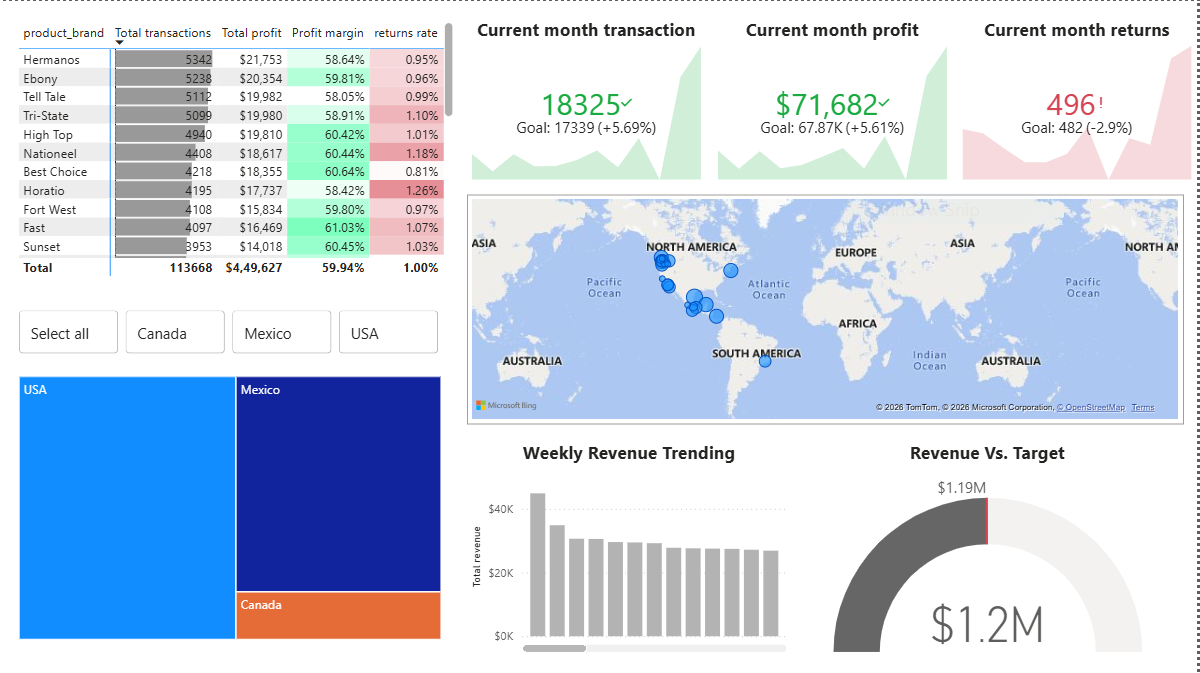

The page's visual inventory and layout, read from the dashboard file:
{"tool":"powerbi","page":{"name":"Page 1","canvas":[1280,720],"ordinal":0},"visuals":[{"type":"pivotTable","fields":{"Rows":["Products.product_brand"],"Values":["Dax measures.Total transactions","Dax measures.Total profit","Dax measures.Profit margin","Dax measures.returns rate"]},"box":[15.9,17.5,474,281.5],"z":0},{"type":"kpi","title":"Current month transaction","fields":{"Goal":["Dax measures.Last month transactions"],"Indicator":["Dax measures.Total transactions"],"TrendLine":["Calendar.Start of Month"]},"box":[500.3,18.2,255.2,178.2],"z":1000},{"type":"kpi","title":"Current month returns","fields":{"Goal":["Dax measures.Last month returns"],"Indicator":["Dax measures.Total returns"],"TrendLine":["Calendar.Start of Month"]},"box":[1024.8,18.2,255.2,178.2],"z":2000},{"type":"kpi","title":"Current month profit","fields":{"Goal":["Dax measures.Last month profit"],"Indicator":["Dax measures.Total profit"],"TrendLine":["Calendar.Start of Month"]},"box":[762.5,18.2,255.2,178.2],"z":3000},{"type":"map","fields":{"Category":["Stores.city"],"Size":["Dax measures.Total transactions"]},"box":[501,206.8,765.1,245],"z":4000},{"type":"advancedSlicerVisual","fields":{"Values":["Stores.country"]},"box":[16.2,326.1,461.8,56.7],"z":5000},{"type":"treemap","fields":{"Group":["Stores.country","Stores.state","Stores.city"],"Values":["Dax measures.Total transactions"]},"box":[15.9,396.1,461.3,291.1],"z":6000},{"type":"clusteredColumnChart","title":"Weekly Revenue Trending","fields":{"Category":["Calendar.Start of Week"],"Y":["Dax measures.Total revenue"]},"box":[500.3,469.9,346.3,230.9],"z":7000},{"type":"gauge","title":"Revenue Vs. Target","fields":{"TargetValue":["Dax measures.Revenue target"],"Y":["Dax measures.Total revenue"]},"box":[846,470,420,231],"z":8000}]}

Visuals, with their boxes in screenshot pixels (x1, y1, x2, y2), scaled from the page's 1280x720 canvas onto the 1200x673 screenshot:
pivotTable - Products.product_brand x Dax measures.Total transactions: 15:16:459:279
"Current month transaction" kpi: 469:17:708:184
"Current month returns" kpi: 961:17:1199:184
"Current month profit" kpi: 715:17:954:184
map - Stores.city x Dax measures.Total transactions: 470:193:1187:422
advancedSlicerVisual - Stores.country: 15:305:448:358
treemap - Stores.country x Stores.state: 15:370:447:642
"Weekly Revenue Trending" clusteredColumnChart: 469:439:794:655
"Revenue Vs. Target" gauge: 793:439:1187:655
